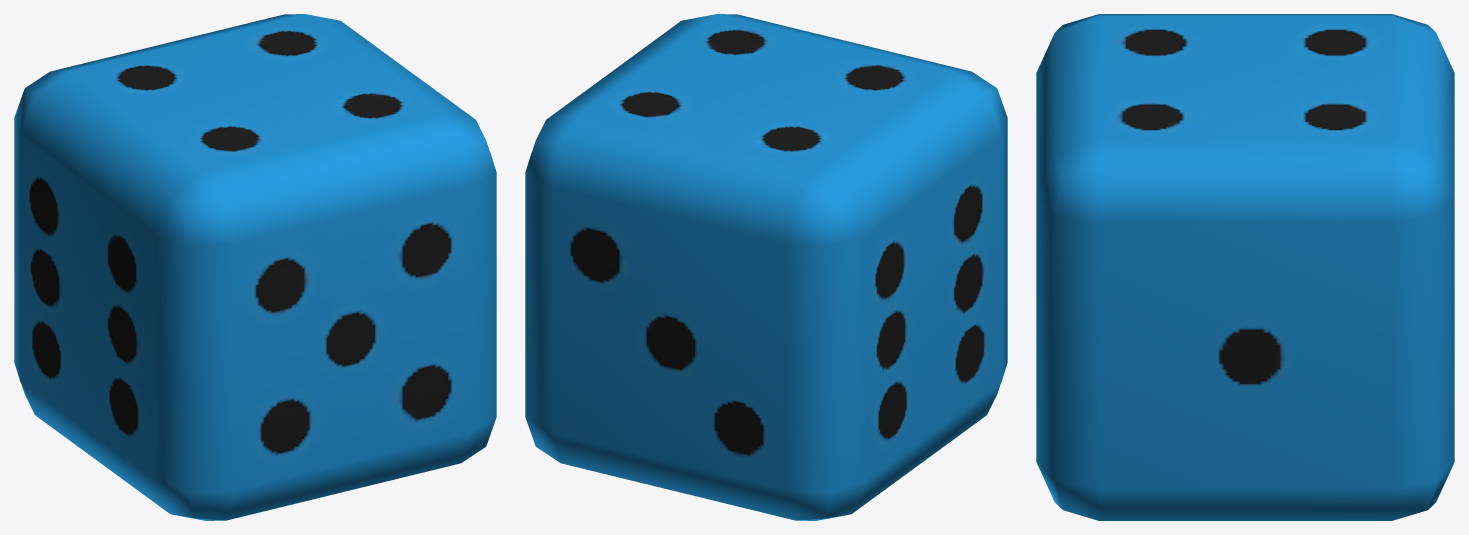
Rendered from 0-dice_blue.fbx.
3 renders of one model, left to right at view 1: azimuth 30°, elevation 25°; view 2: azimuth 150°, elevation 25°; view 3: azimuth 270°, elevation 25°, orthographic. The views are drawn at different scales.
Visible parts, largest first — view 1: 0-dice_blue; view 2: 0-dice_blue; view 3: 0-dice_blue.
Part boxes in pixels (box(x1,y1,x2,y2)): 0-dice_blue: box(14, 14, 496, 520); 0-dice_blue: box(525, 14, 1007, 520); 0-dice_blue: box(1036, 14, 1454, 520).
Bounding box in the file's own units: 100 × 100 × 100.
